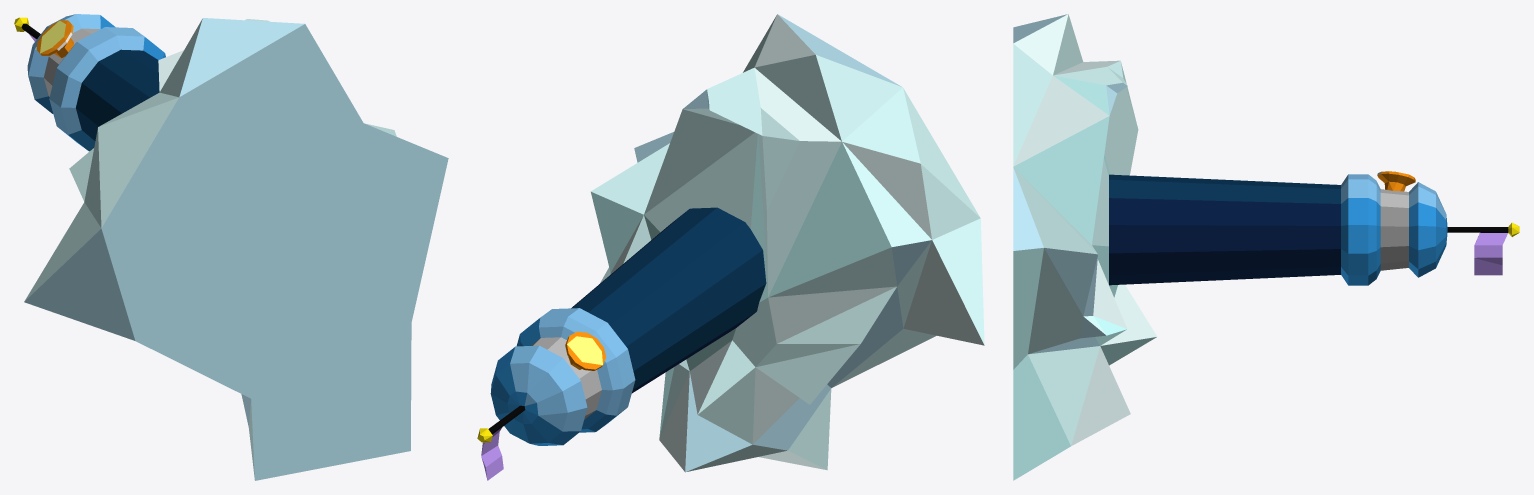
File: statue_6.fbx
The picture shows the model from 3 angles, left to right: view 1: azimuth 30°, elevation 25°; view 2: azimuth 150°, elevation 25°; view 3: azimuth 270°, elevation 25°; orthographic projection. The views are drawn at different scales.
Parts seen in each view (by area): view 1: statue_6; view 2: statue_6; view 3: statue_6.
Boxes of the visible parts, bbox=[...] form: statue_6: bbox=[14, 14, 448, 480]; statue_6: bbox=[477, 14, 984, 480]; statue_6: bbox=[1013, 14, 1519, 480].
Size of the model in its own units: 210 by 234 by 274.
